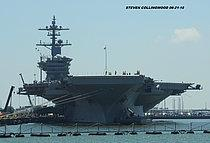MIL_Ship: (18, 15, 197, 126)
